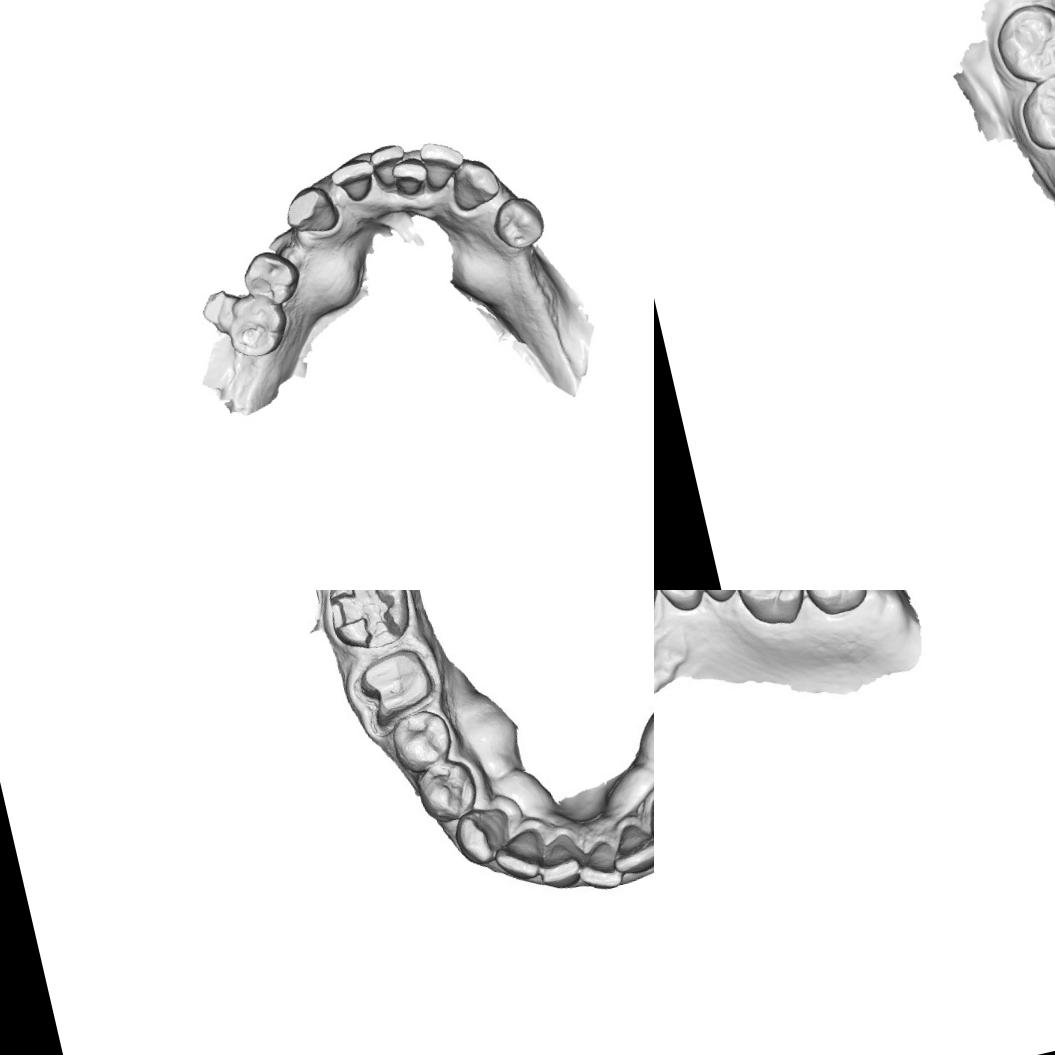canine: (448, 800, 518, 870), (278, 176, 341, 239), (444, 152, 504, 216)
crown: (350, 640, 444, 733)
incisor: (488, 825, 548, 888), (570, 836, 626, 896), (416, 134, 470, 194), (604, 817, 654, 879), (328, 156, 380, 208), (534, 839, 584, 893), (365, 140, 412, 190), (389, 153, 432, 200)
inlay: (321, 590, 408, 656)
molar: (214, 285, 294, 365), (987, 0, 1055, 91), (724, 590, 809, 635), (1014, 66, 1055, 159), (793, 590, 880, 622)
premolar: (410, 754, 483, 829), (386, 704, 458, 776), (235, 244, 305, 312), (486, 192, 550, 256), (654, 590, 707, 621), (685, 590, 753, 608)
